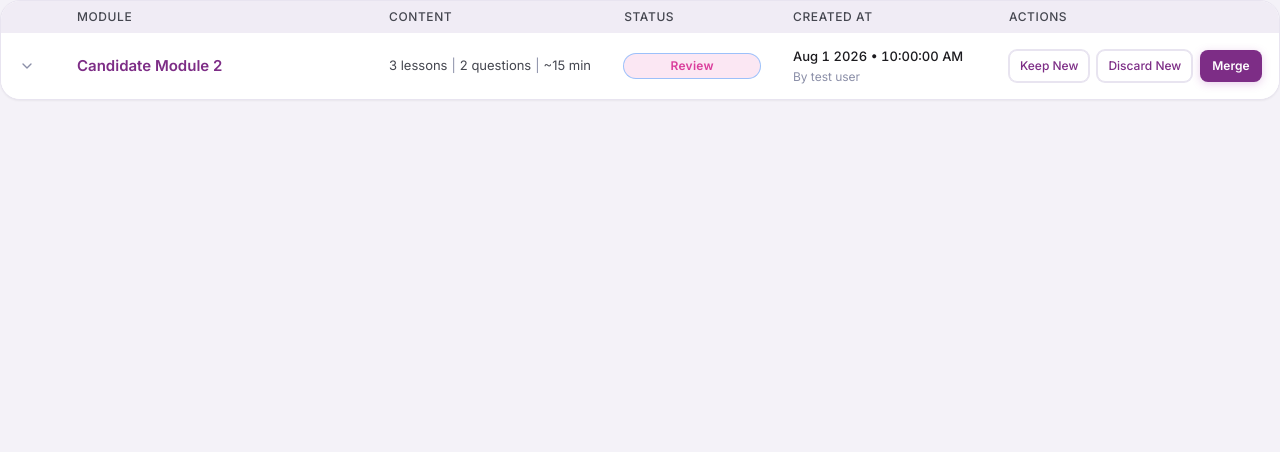
it: NeedsReviewTab › shows created_by and published_by actor names from API objects
Expected: the text "By test user" is shown, [793,68,860,84]
Click the button named "Expand comparison" at (27, 66), box [13,52,41,80]
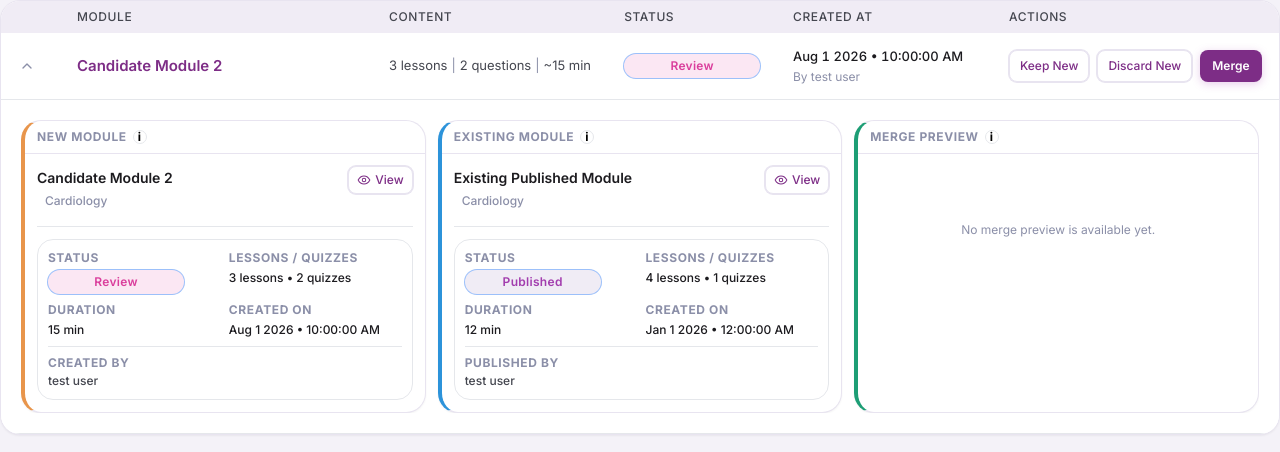
Expected: the heading "Existing Published Module" is shown, [454,168,632,186]
Expected: the text "Created By" is shown, [48,355,130,370]
Expected: the text "Published By" is shown, [465,355,559,370]
